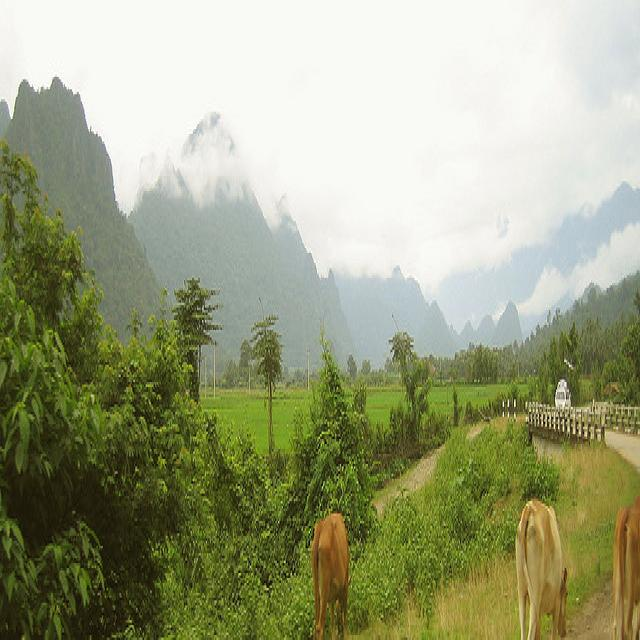Vehicle: (555, 380, 571, 407), (566, 390, 571, 407)
